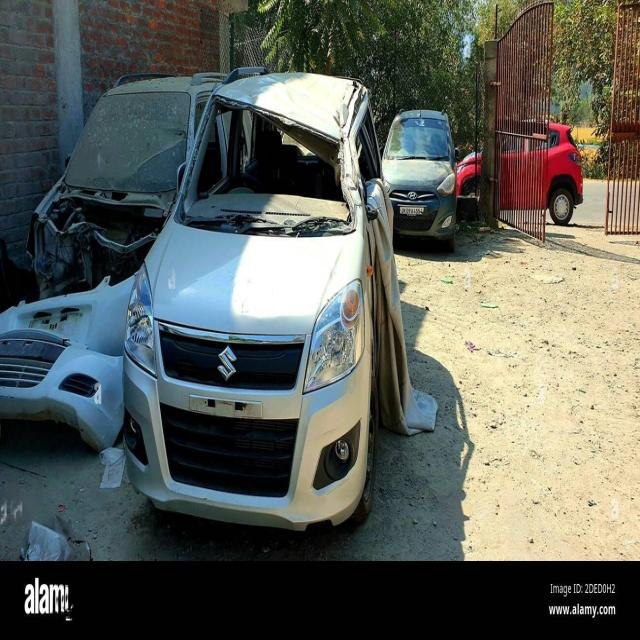accident: (124, 74, 438, 530), (0, 74, 220, 450)
car: (381, 110, 458, 251)
